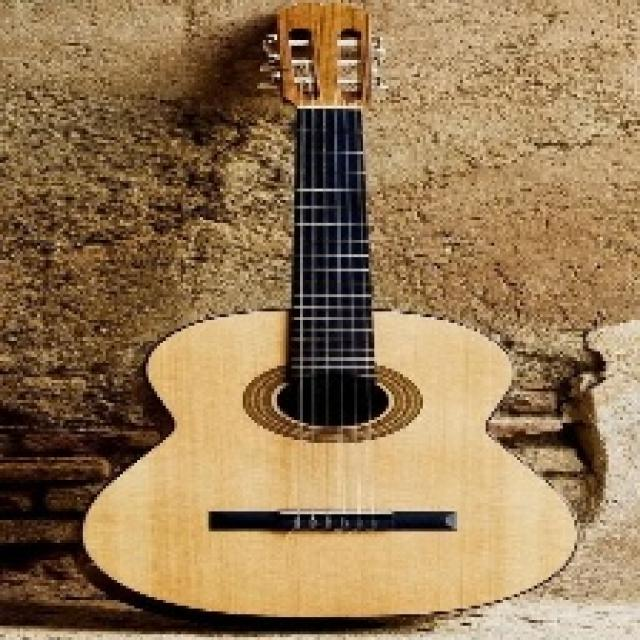acousticguitar: (84, 3, 575, 616)
